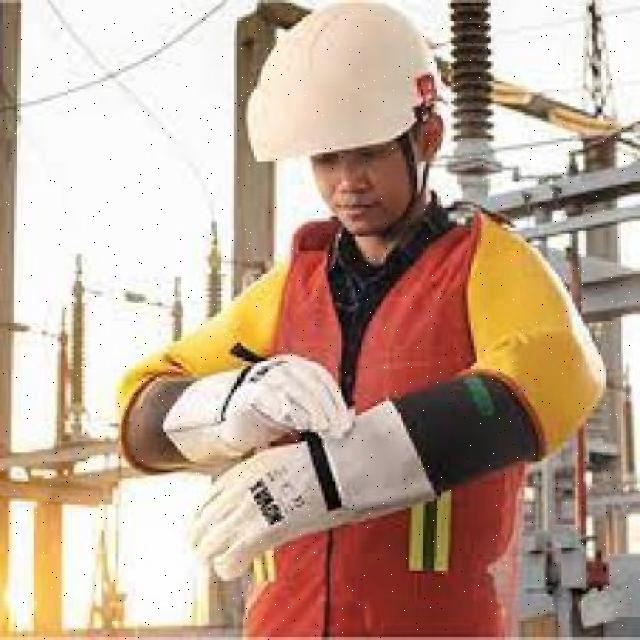Hard_hat: (245, 0, 435, 163)
